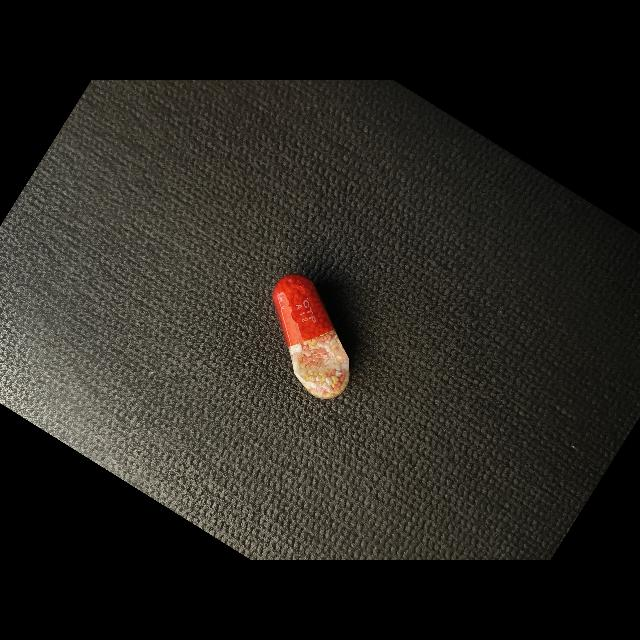Defective Capsule: (273, 274, 349, 399)
